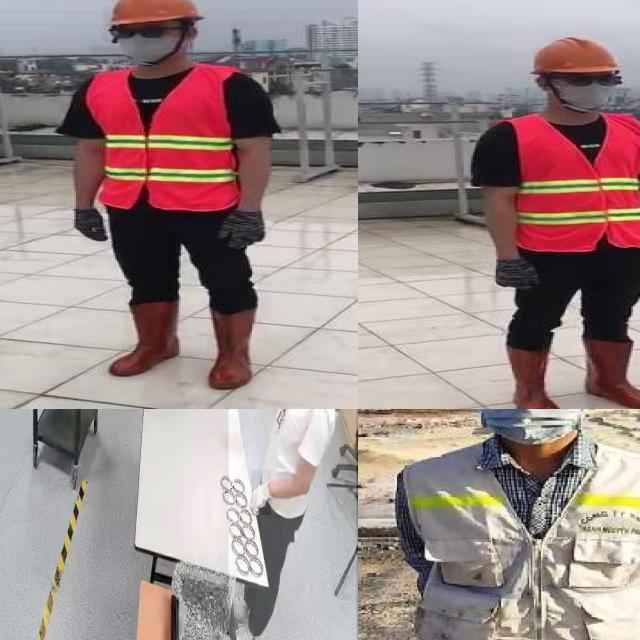boots: (107, 299, 182, 377), (205, 305, 262, 389), (577, 335, 640, 409), (502, 342, 560, 409)
face_mask: (477, 409, 588, 445), (105, 18, 178, 62), (552, 67, 623, 111)
glasses: (552, 68, 627, 91), (106, 22, 176, 42)
hand_glove: (216, 210, 268, 252), (482, 258, 540, 292), (74, 209, 114, 241), (252, 470, 272, 516)
head_helmet: (524, 34, 618, 76), (99, 0, 205, 26)
person: (59, 0, 279, 395), (463, 29, 640, 409), (386, 409, 640, 640), (228, 409, 357, 640)
vest: (399, 439, 640, 640), (85, 63, 239, 210), (501, 113, 640, 251)
